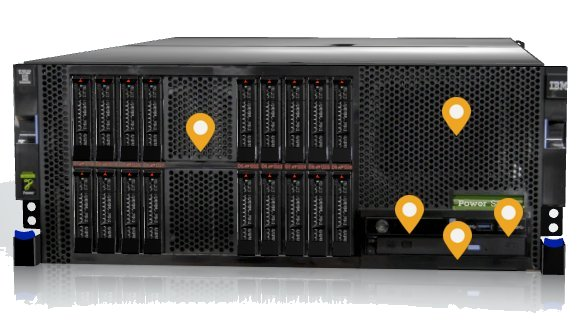ibm-server: (5, 30, 574, 284)
